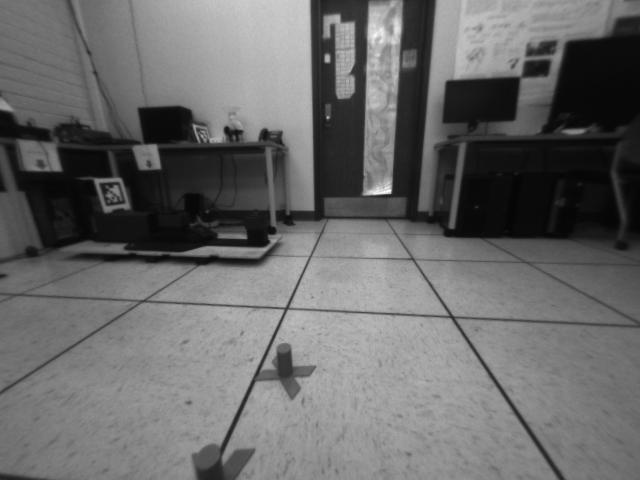X: (253, 340, 317, 400)
